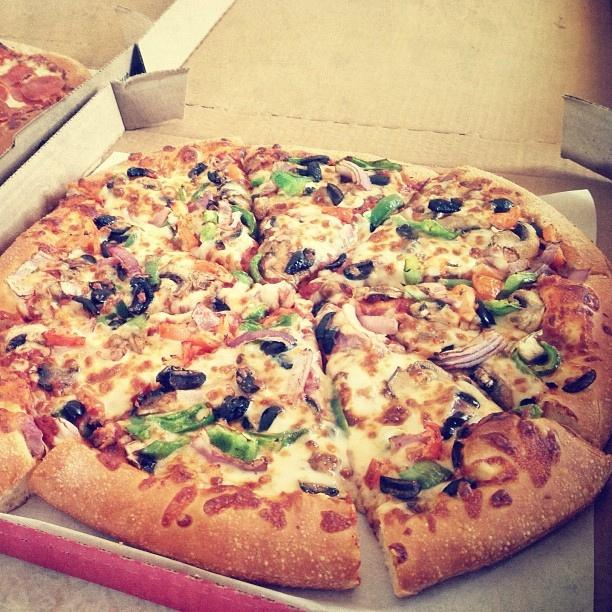bell pepper: (207, 422, 258, 462), (144, 404, 215, 432), (398, 460, 456, 490), (136, 434, 192, 459), (366, 194, 404, 228), (244, 428, 308, 448), (270, 170, 314, 195), (528, 342, 560, 376), (230, 204, 260, 240), (502, 271, 537, 298), (421, 219, 462, 240), (484, 298, 526, 315), (352, 157, 402, 171), (403, 255, 423, 286), (200, 210, 218, 243), (333, 394, 348, 430), (266, 313, 299, 329), (144, 258, 162, 285), (122, 314, 152, 330), (250, 254, 265, 282), (129, 427, 152, 443), (245, 304, 267, 320), (438, 278, 472, 288), (124, 424, 152, 435), (122, 232, 136, 248), (178, 188, 187, 200)
mushroom: (492, 220, 540, 275), (469, 364, 515, 412), (504, 290, 546, 333), (130, 383, 177, 416), (4, 324, 51, 350), (212, 395, 250, 424), (516, 332, 549, 364), (262, 239, 294, 272), (259, 340, 293, 370), (380, 475, 421, 498), (440, 411, 470, 440), (37, 362, 64, 391), (298, 479, 340, 497), (103, 333, 129, 362), (314, 184, 344, 206), (79, 414, 104, 439), (236, 368, 260, 394), (89, 281, 116, 304), (72, 296, 100, 317), (315, 312, 336, 338), (188, 270, 215, 290), (428, 198, 461, 214), (387, 366, 407, 392), (107, 225, 134, 244), (148, 207, 172, 228), (6, 333, 28, 354), (217, 180, 247, 195), (324, 327, 339, 355), (93, 214, 117, 230), (324, 253, 347, 269), (172, 280, 192, 298), (396, 224, 418, 240), (307, 160, 323, 182), (220, 188, 240, 205), (413, 360, 438, 373), (188, 162, 208, 178), (410, 302, 430, 317), (493, 198, 514, 212), (431, 172, 456, 183), (369, 174, 390, 186), (206, 200, 220, 211), (81, 254, 96, 263)
onion: (187, 440, 269, 472), (434, 334, 503, 366), (224, 330, 298, 347), (521, 239, 558, 273), (6, 260, 39, 298), (190, 302, 222, 336), (389, 431, 431, 455), (106, 243, 139, 273), (21, 416, 44, 458), (356, 315, 398, 334), (338, 161, 360, 186), (304, 367, 321, 395), (335, 164, 357, 183), (508, 259, 528, 274), (568, 269, 589, 282), (198, 191, 213, 207)
